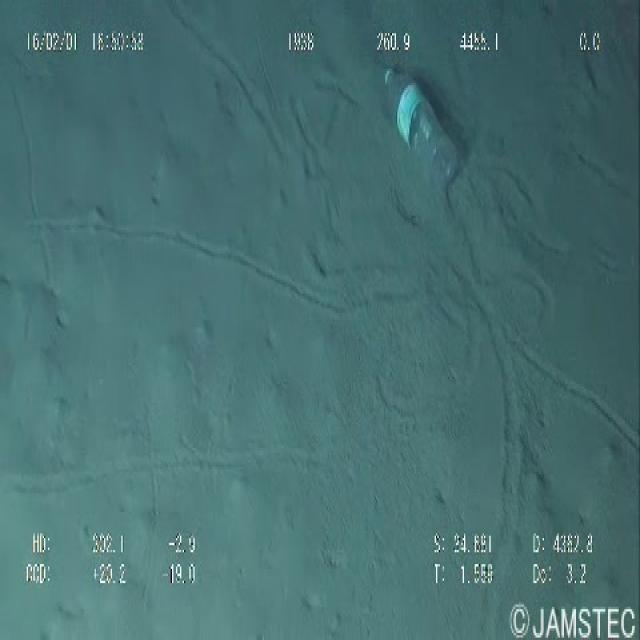plastic: (372, 52, 471, 204)
